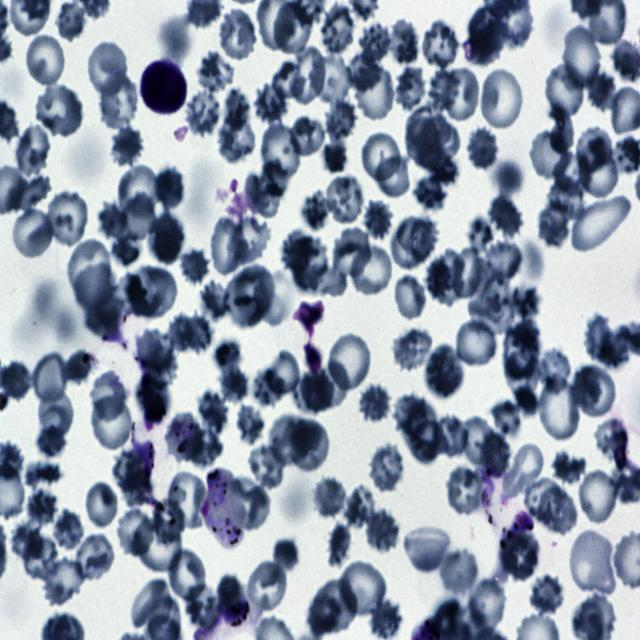leukocyte: (140, 57, 188, 115)
red blood cell: (570, 194, 633, 251), (568, 526, 617, 598), (338, 558, 388, 620), (479, 65, 525, 132), (537, 376, 583, 442), (227, 264, 275, 326), (561, 21, 604, 90), (259, 122, 305, 186), (308, 576, 358, 634), (327, 330, 373, 392), (35, 82, 85, 139), (68, 236, 112, 300), (132, 517, 182, 573), (207, 215, 252, 277), (166, 467, 210, 530), (128, 263, 178, 318), (44, 188, 91, 246), (572, 362, 618, 420), (22, 30, 68, 87), (446, 463, 492, 520), (500, 441, 545, 499), (578, 139, 620, 201), (392, 214, 439, 269), (10, 206, 57, 260), (577, 467, 620, 526), (228, 474, 273, 530), (247, 160, 290, 218), (33, 388, 76, 446), (544, 61, 586, 120), (166, 546, 208, 605), (246, 558, 290, 614), (437, 543, 480, 600), (135, 328, 177, 386), (87, 39, 128, 98), (455, 317, 501, 369), (73, 530, 117, 584), (467, 10, 509, 66), (416, 114, 460, 167), (90, 397, 132, 452), (403, 526, 451, 574), (348, 244, 393, 295), (500, 528, 542, 582), (355, 65, 394, 123), (119, 165, 162, 217), (99, 72, 138, 129), (30, 351, 70, 406), (269, 413, 313, 463), (84, 288, 127, 339), (535, 193, 574, 249), (291, 419, 331, 473), (309, 55, 353, 104), (114, 506, 154, 559), (227, 219, 272, 266), (426, 249, 463, 306), (147, 212, 186, 266), (43, 558, 85, 608), (445, 64, 483, 119), (406, 109, 444, 164), (528, 128, 568, 180), (332, 226, 372, 278), (164, 411, 202, 464), (218, 10, 259, 59), (360, 132, 401, 181), (425, 342, 462, 396), (292, 238, 330, 290), (418, 21, 460, 68), (326, 174, 364, 225), (390, 328, 432, 374), (273, 4, 313, 52), (538, 488, 578, 536), (291, 46, 324, 104), (392, 270, 430, 320), (368, 443, 406, 493), (84, 480, 120, 532), (463, 124, 502, 172), (16, 124, 51, 177), (90, 372, 127, 422), (552, 151, 592, 197), (470, 579, 506, 630), (576, 124, 612, 174), (217, 115, 256, 161), (120, 192, 158, 239), (322, 1, 354, 56), (248, 446, 286, 491), (286, 116, 326, 158), (483, 241, 522, 284), (463, 414, 494, 468), (433, 414, 469, 460), (452, 246, 482, 301), (364, 509, 400, 554), (23, 537, 60, 580), (264, 349, 300, 393), (488, 197, 528, 236), (480, 431, 513, 478), (197, 50, 234, 91), (374, 156, 410, 198), (312, 476, 347, 519), (389, 17, 419, 67), (187, 92, 221, 136), (538, 348, 570, 394), (530, 574, 564, 617), (428, 68, 462, 111), (254, 82, 288, 124), (368, 598, 402, 640), (395, 65, 426, 111), (196, 392, 228, 436), (345, 53, 382, 91), (187, 429, 224, 467), (279, 230, 313, 271), (52, 507, 86, 548), (344, 484, 374, 530), (110, 124, 144, 164), (272, 60, 306, 99), (251, 368, 284, 408), (9, 523, 44, 560), (301, 190, 333, 230), (154, 167, 185, 208), (586, 70, 616, 112), (25, 490, 58, 528), (360, 24, 392, 63), (182, 314, 214, 353), (326, 99, 356, 140), (236, 405, 266, 446), (358, 386, 391, 423), (364, 200, 394, 240), (178, 249, 210, 284), (200, 282, 230, 319), (218, 365, 248, 401), (166, 316, 194, 354)
trophozoite: (481, 466, 534, 541), (130, 414, 169, 509), (201, 468, 245, 549), (103, 313, 145, 389), (192, 602, 258, 640)
